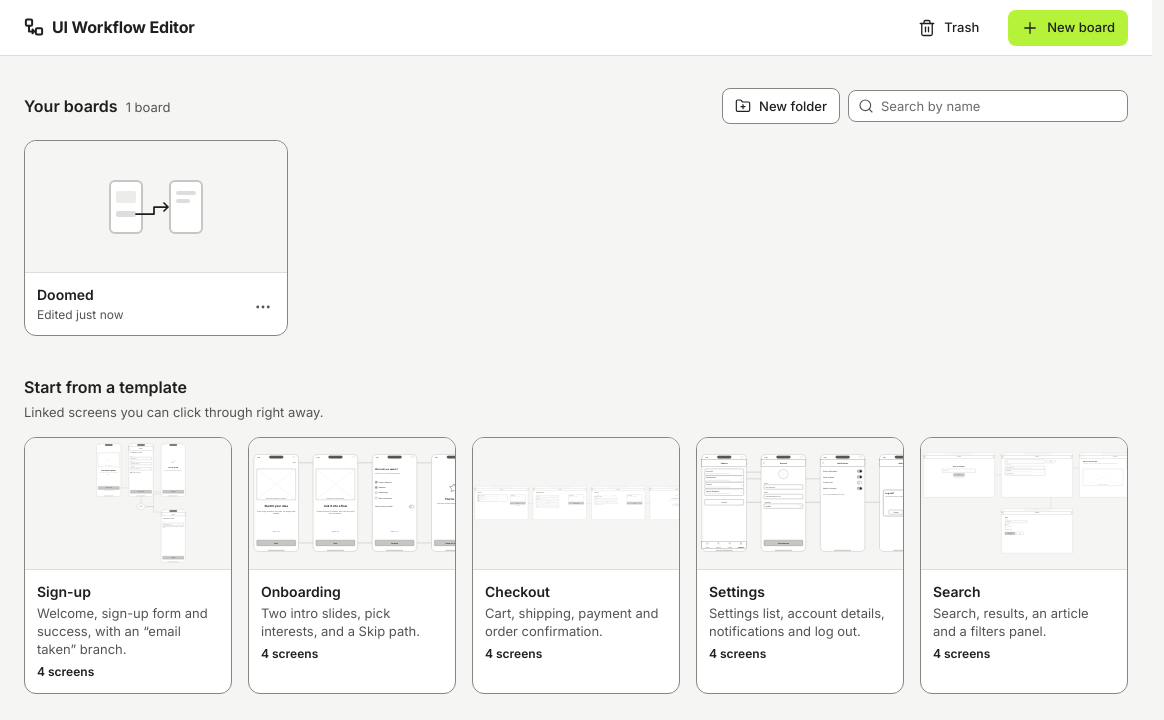
Test: DashboardPage › deletes with undo
This screenshot has width=1164, height=720.
Press the mouse on the button named "Options for Doomed" at (263, 307), box [247,291,279,323]
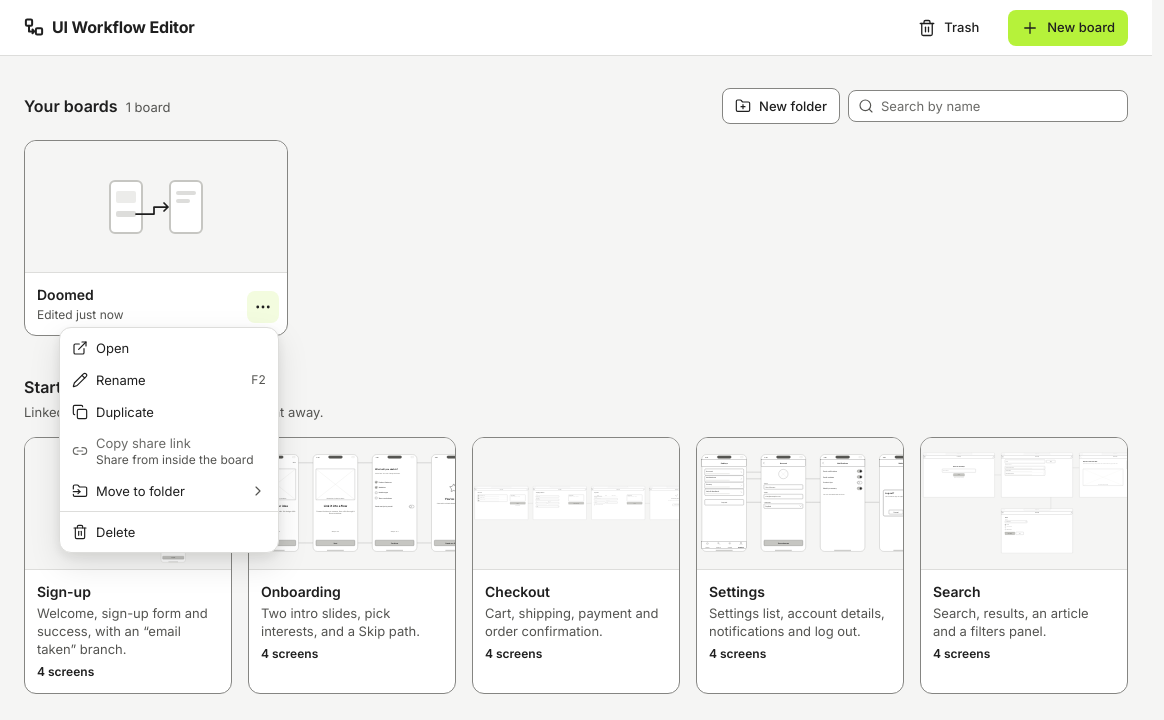
Click the menu item "Delete" at (104, 532), box [72,524,135,540]
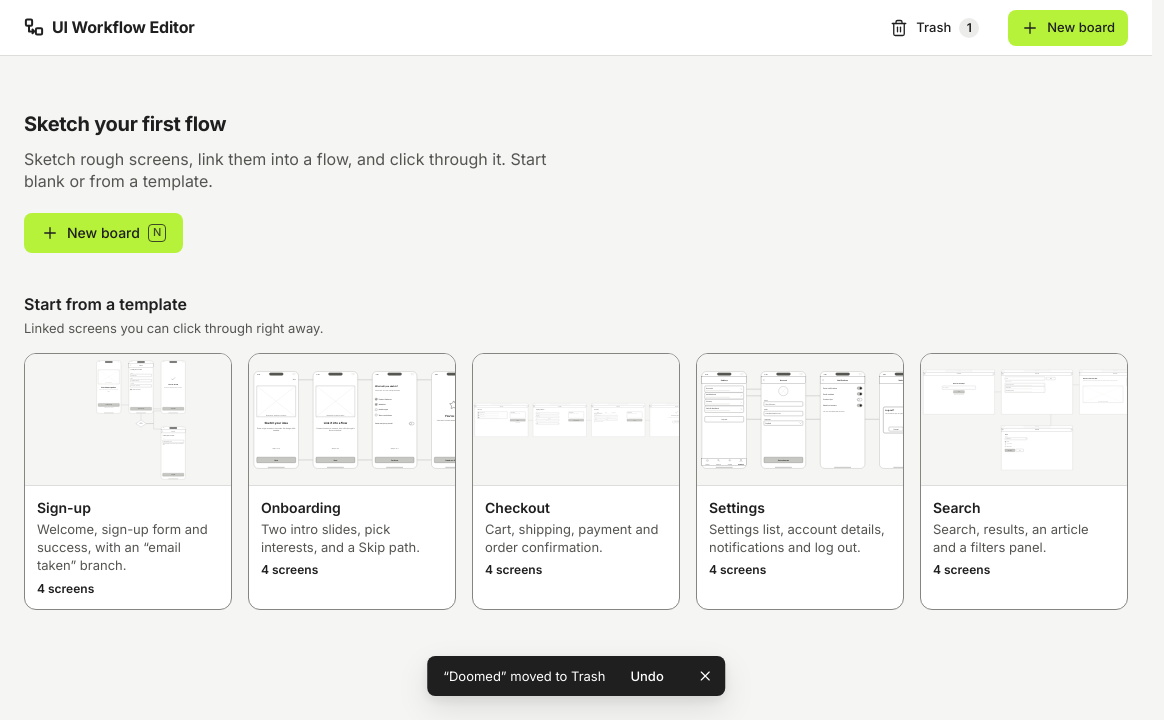
Expected: the text "“Doomed” moved to Trash" is shown, [443,667,605,685]
Click the button "Undo" at (647, 676), box [617,661,677,691]
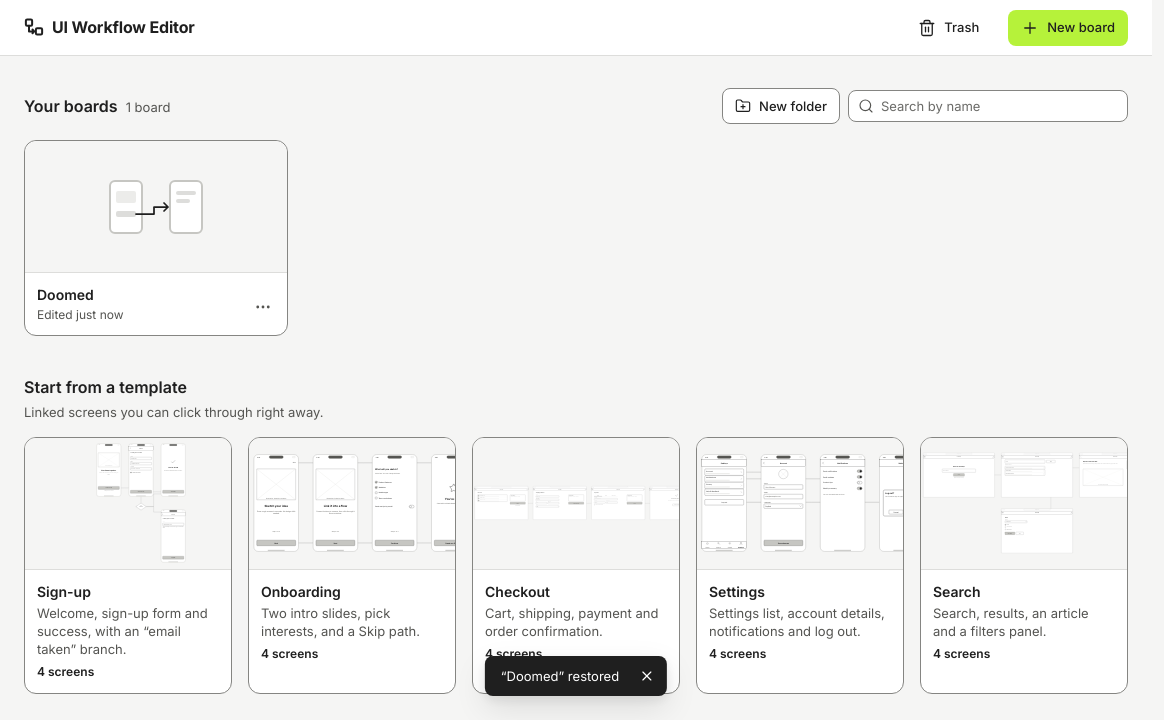
Expected: the link "Doomed Edited just now" is shown, [25,141,287,335]
